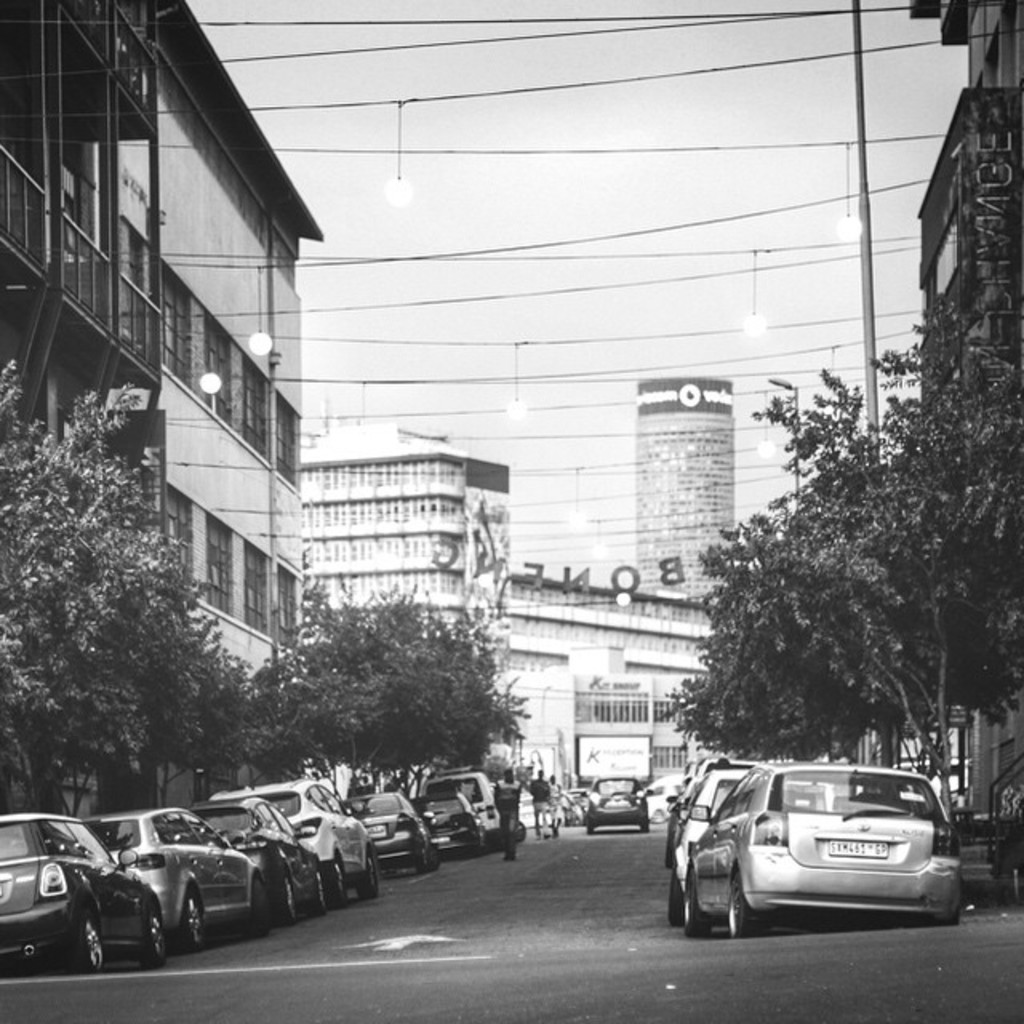Car: (0, 766, 588, 972), (665, 748, 963, 939), (579, 774, 652, 833)
